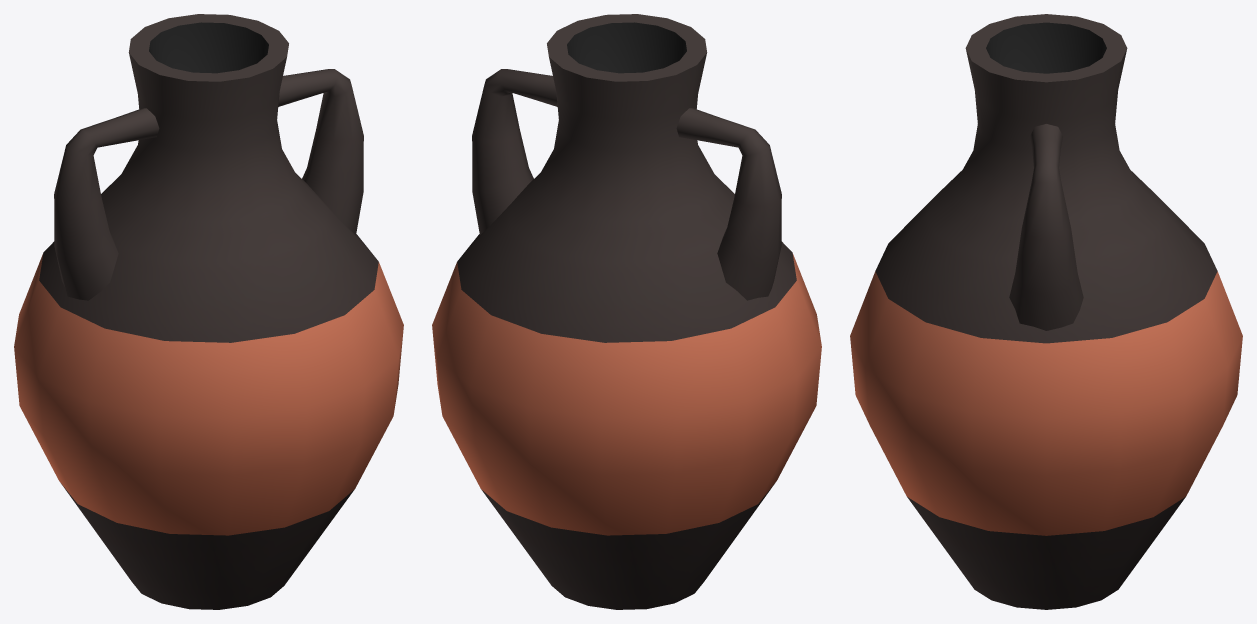
Rendered from vase_003.glb.
3 views of the same model, side by side, from view 1: azimuth 30°, elevation 25°; view 2: azimuth 150°, elevation 25°; view 3: azimuth 270°, elevation 25° (orthographic).
Parts seen in each view (by area): view 1: vase_003; view 2: vase_003; view 3: vase_003.
Boxes of the visible parts, x1=… form: vase_003: x1=14, y1=14, x2=403, y2=609; vase_003: x1=432, y1=14, x2=821, y2=609; vase_003: x1=850, y1=14, x2=1242, y2=609.
Bounding box in the file's own units: 0.9444 × 1.4 × 0.9444.
1 material, 1 textured.
